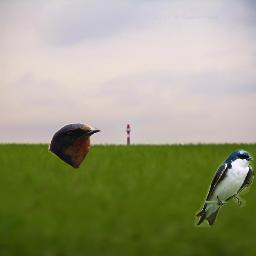Swallow: (194, 149, 254, 227), (48, 122, 102, 169)
